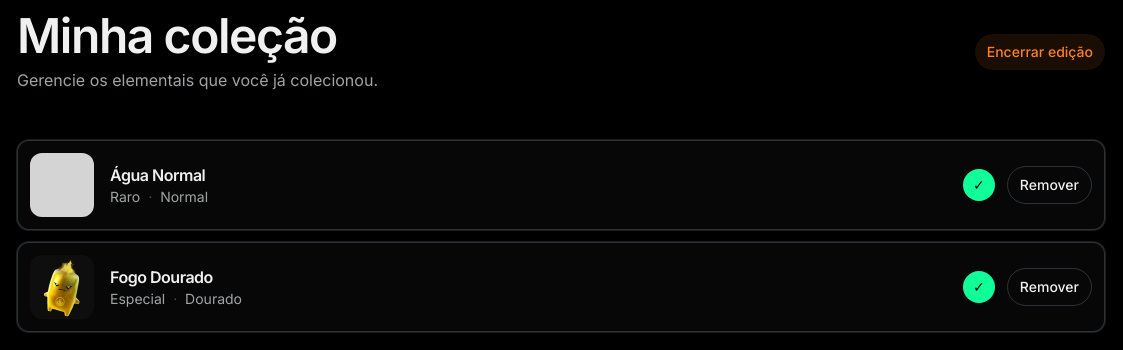
Scenario: Collection edit mode › encerrar edição reflete o estado final da lista
Click the button "Encerrar edição": (1040, 52) [975,34,1105,70]
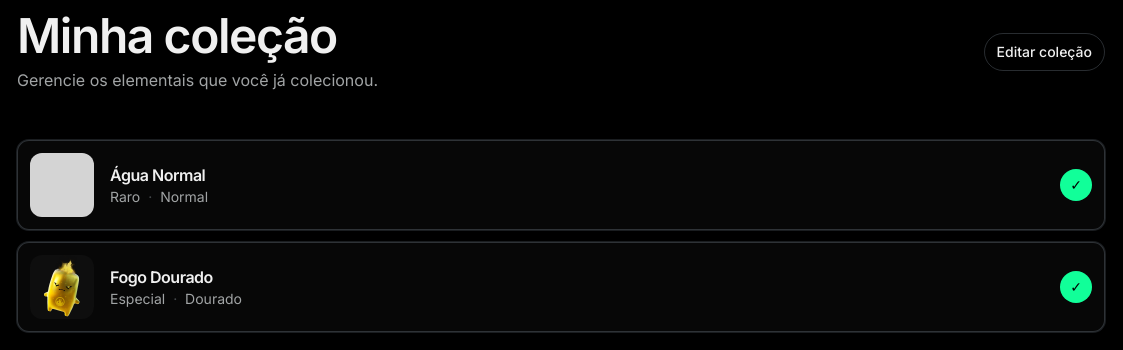
Expected: the button "Remover" is gone
